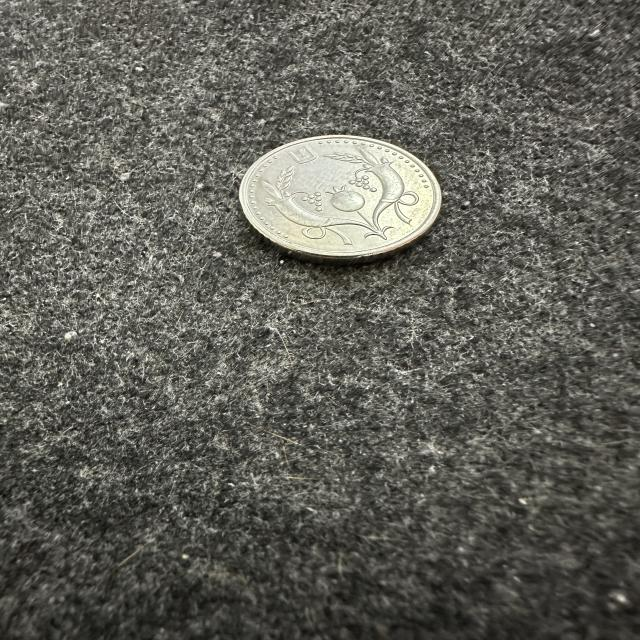2-shekel: (237, 132, 445, 260)
